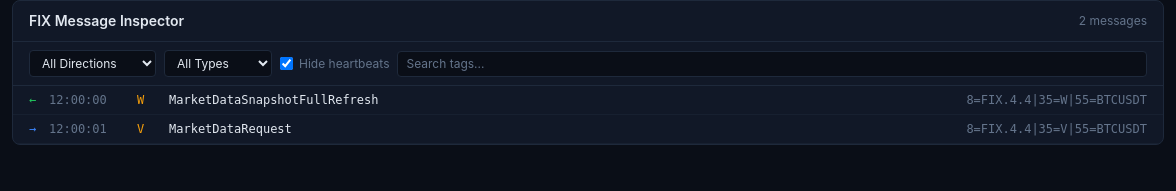
Test: FIXInspector › shows heartbeats when filter unchecked
Click the checkbox: (286, 64) [280,57,293,70]
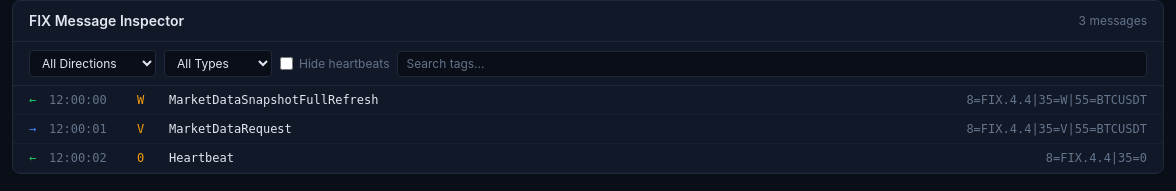
expect the text "3 messages" is shown: met, box [1079,13,1147,29]
